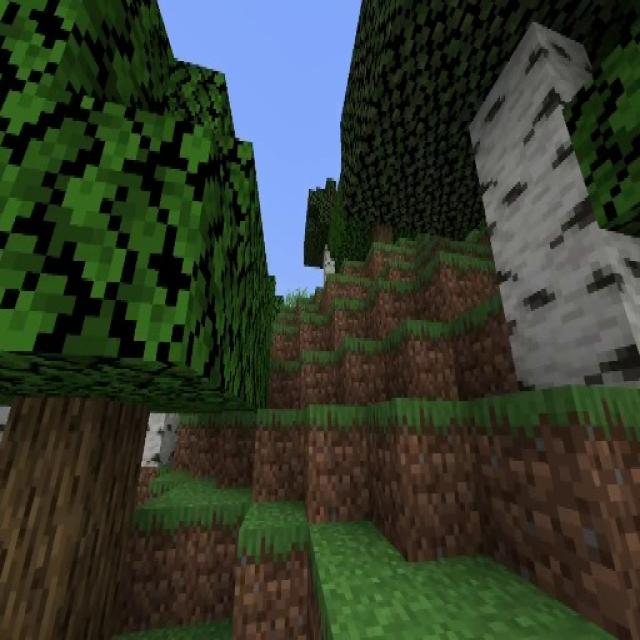birch: (345, 5, 640, 393), (303, 174, 354, 288)
birch_log: (471, 21, 640, 385), (141, 413, 177, 466), (324, 246, 334, 278)
oak: (0, 3, 265, 640)
oak_log: (0, 401, 147, 640)
